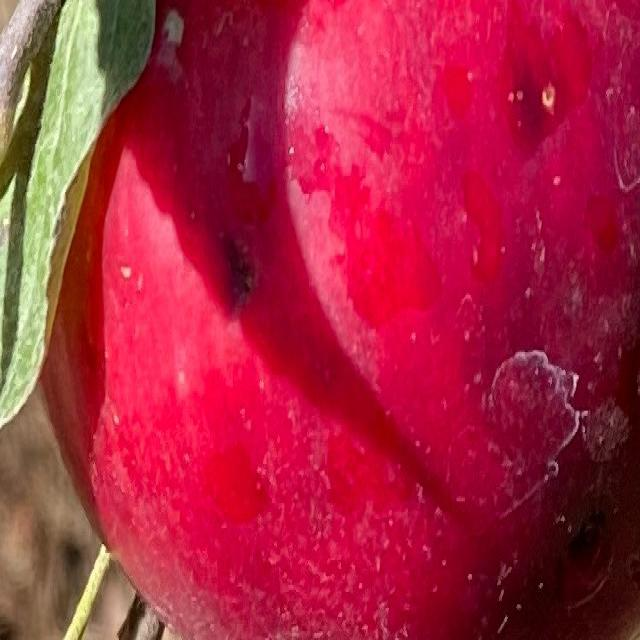Apples: (40, 0, 639, 638)
